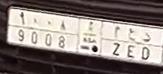0: (44, 20, 54, 46), (31, 17, 40, 44)
8: (58, 19, 68, 49)
9: (17, 11, 27, 42)
D: (141, 32, 151, 61)
E: (126, 28, 136, 60)
Z: (112, 25, 122, 57)
